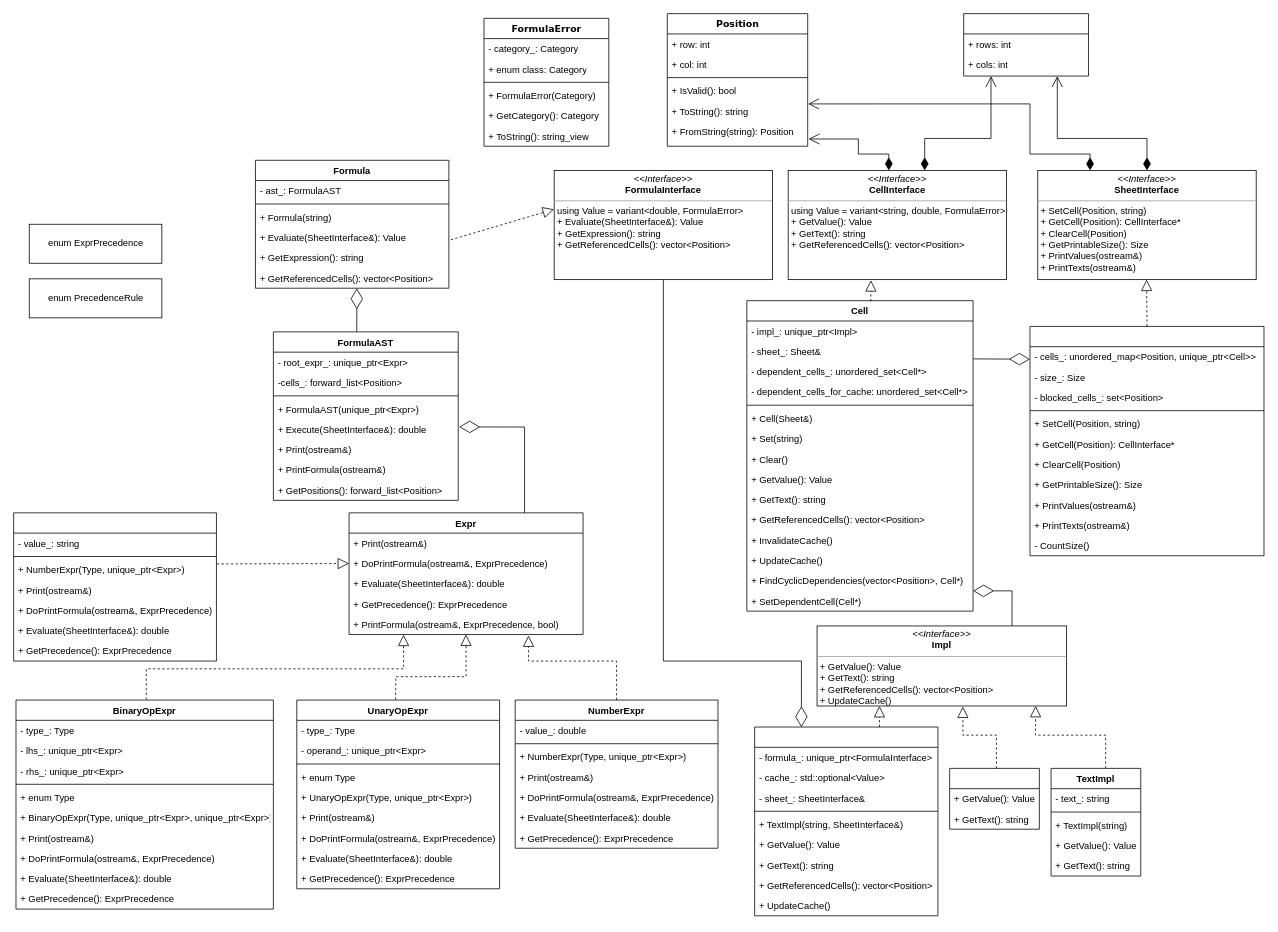
This 1278x932 diagram has some shape labels left out. Each missing label, with the box of its shape:
CellExpr: (13, 512, 216, 661)
EmptyImpl: (949, 768, 1039, 829)
Sheet: (1029, 326, 1264, 556)
Size: (963, 13, 1088, 76)
